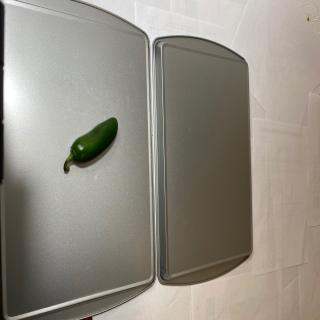Chilli: (63, 116, 118, 173)
